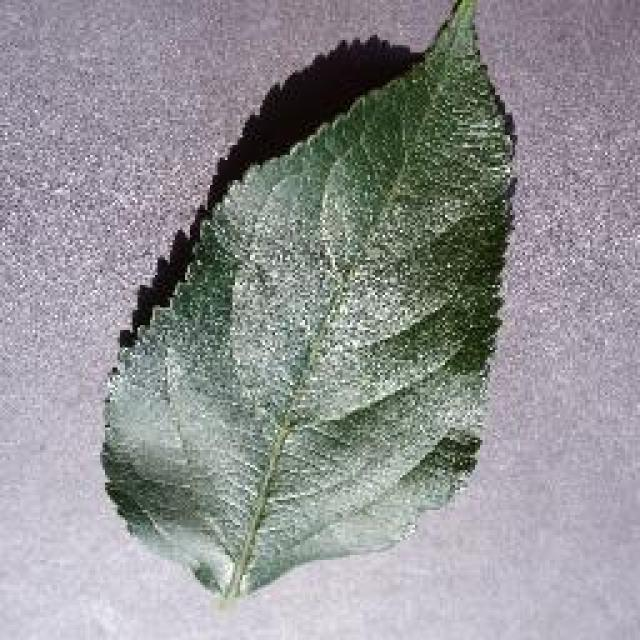apple healthy: (97, 0, 520, 602)
